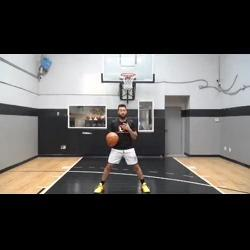BasketBall: (104, 130, 119, 147)
Player: (92, 103, 152, 194)
